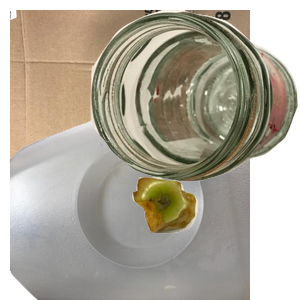cardboard: (10, 10, 250, 190)
glass: (90, 10, 300, 184)
plastic: (10, 120, 250, 300)
trash: (130, 175, 300, 300)
